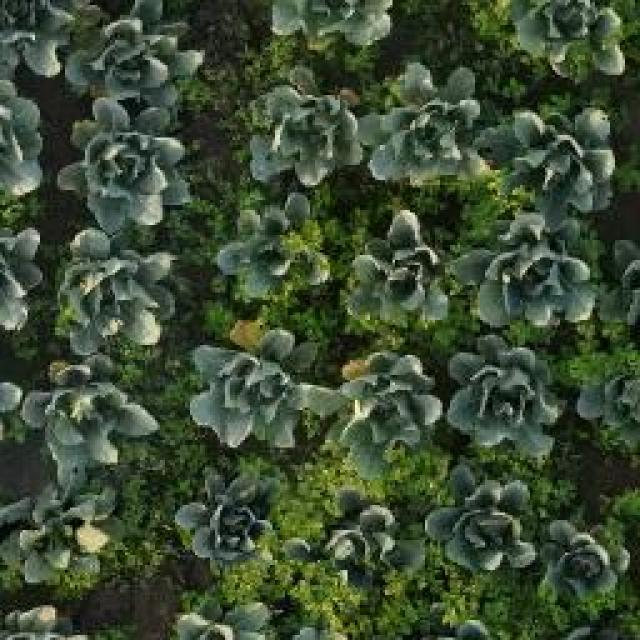cabbage: (182, 317, 319, 461), (361, 58, 498, 194), (456, 213, 595, 331), (319, 338, 447, 462), (212, 190, 336, 308), (65, 0, 208, 98), (447, 340, 563, 460), (25, 362, 146, 476), (495, 102, 617, 214), (65, 98, 177, 218), (240, 82, 366, 188), (430, 460, 540, 578), (340, 212, 450, 330), (65, 242, 175, 360), (0, 477, 118, 585), (288, 494, 418, 590), (172, 469, 274, 568), (538, 516, 632, 614), (514, 0, 630, 76), (0, 0, 71, 74)
